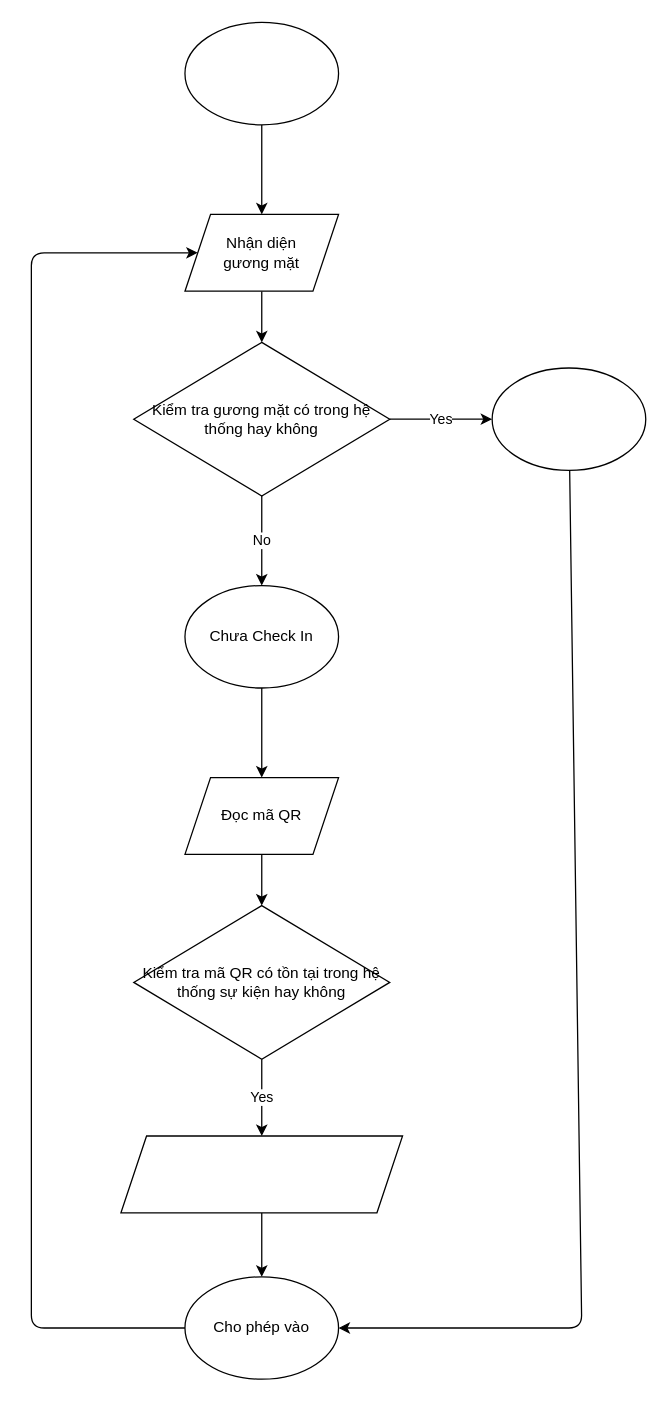
Some shapes in this 668 by 1402 pixel diagram are drawn without their labels. The shapes that lost their labels are listed below. From the top down, each one's centre as x and y in pixels, then its label:
At point (261, 73): "Bắt đầu".
At point (568, 418): "Đã Check In".
At point (261, 1174): "Chụp ảnh, đăng kí khuôn mặt & ghi nhận thời gian Check In".
